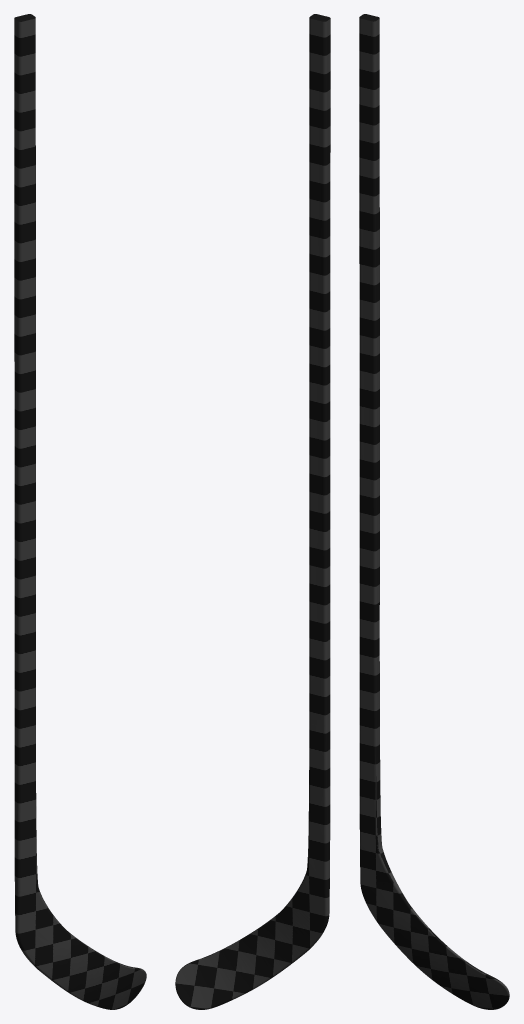
File: P90M-LIE7_5-ST.glb
3 renders of one model, left to right at view 1: azimuth 30°, elevation 25°; view 2: azimuth 150°, elevation 25°; view 3: azimuth 330°, elevation 25°, orthographic. The views are drawn at different scales.
Visible parts, largest first — view 1: geometry_0; view 2: geometry_0; view 3: geometry_0.
Boxes of the visible parts, left/top/right/bottom form: geometry_0: left=14, top=14, right=146, bottom=1009; geometry_0: left=175, top=14, right=330, bottom=1009; geometry_0: left=359, top=14, right=509, bottom=1009.
Size of the model in its own units: 240 by 1650 by 56.48.
Materials: 1 (1 with a texture image).
